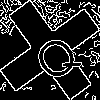Q: (25, 25, 85, 87)
